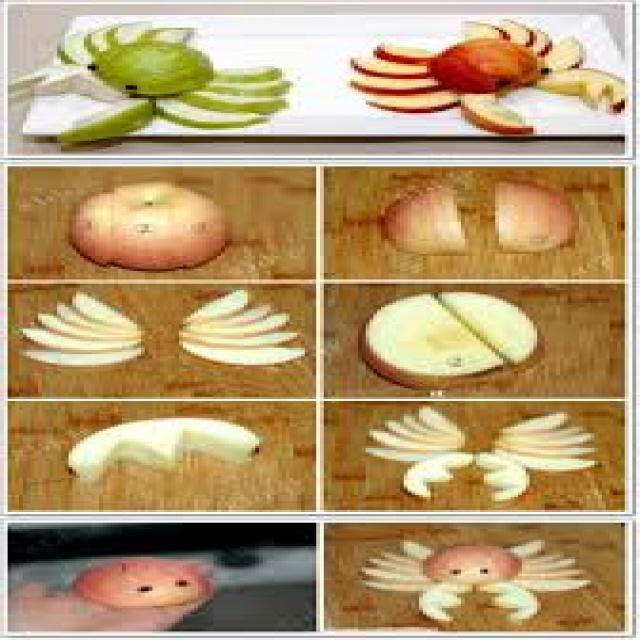Apple: (362, 292, 538, 386), (70, 183, 225, 270), (366, 292, 494, 382), (445, 288, 553, 362), (381, 183, 474, 258), (491, 182, 575, 254), (58, 100, 155, 148), (158, 100, 272, 134), (182, 326, 317, 351), (23, 329, 151, 353), (174, 344, 306, 366), (74, 294, 147, 330), (454, 98, 531, 132), (184, 316, 292, 337), (195, 89, 288, 113), (56, 307, 126, 337), (363, 430, 466, 450), (184, 292, 254, 320), (504, 453, 601, 473), (498, 440, 601, 458), (42, 318, 126, 340), (20, 352, 147, 366), (364, 99, 467, 116), (495, 432, 598, 449), (356, 58, 434, 80), (212, 79, 304, 97), (357, 448, 468, 462), (188, 308, 274, 326), (374, 44, 434, 69), (388, 420, 450, 444), (55, 37, 94, 72), (418, 408, 464, 437), (496, 411, 566, 429), (458, 19, 512, 42), (349, 81, 445, 93), (554, 36, 586, 72), (606, 73, 634, 113), (359, 570, 439, 584), (547, 75, 616, 91), (500, 424, 589, 436), (107, 22, 155, 44), (500, 18, 531, 52), (139, 28, 204, 44), (406, 416, 447, 441), (218, 65, 286, 80), (578, 74, 606, 109), (80, 27, 112, 55), (369, 582, 433, 594), (521, 581, 595, 591), (504, 539, 550, 555), (380, 554, 429, 569), (363, 558, 423, 570), (518, 570, 590, 580), (524, 559, 583, 570), (531, 28, 552, 56), (404, 539, 436, 557), (522, 555, 559, 565)
